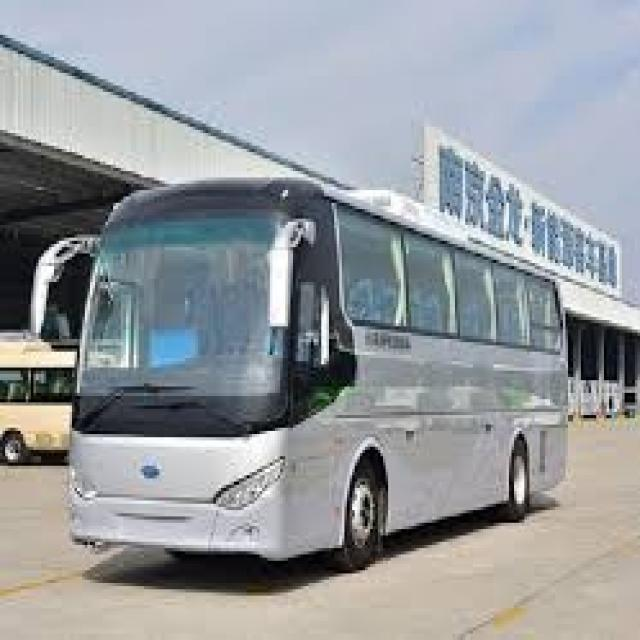bus: (17, 153, 579, 557)
